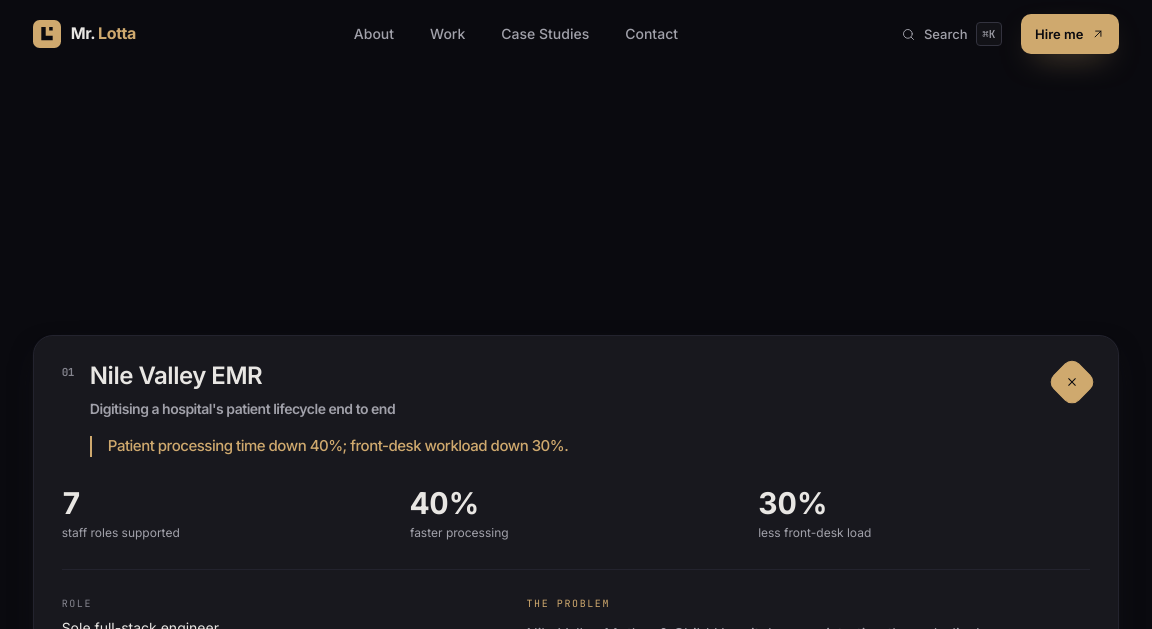
Test: case study accordion › expands and collapses with correct ARIA state
(page scrolled)
Click the button "Nile Valley EMR". click: coordinates (176, 375)
box: [62, 336, 1090, 481]
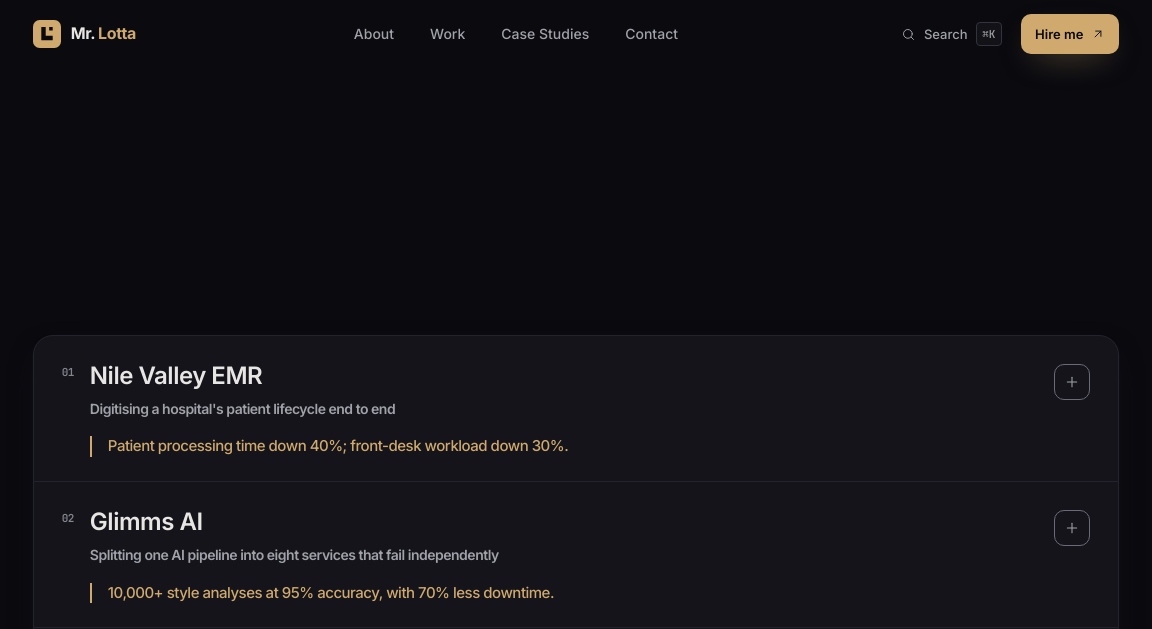
Check: the button "Nile Valley EMR" is collapsed
Click the button "Nile Valley EMR". click: coordinates (176, 375)
box: [62, 336, 1090, 481]
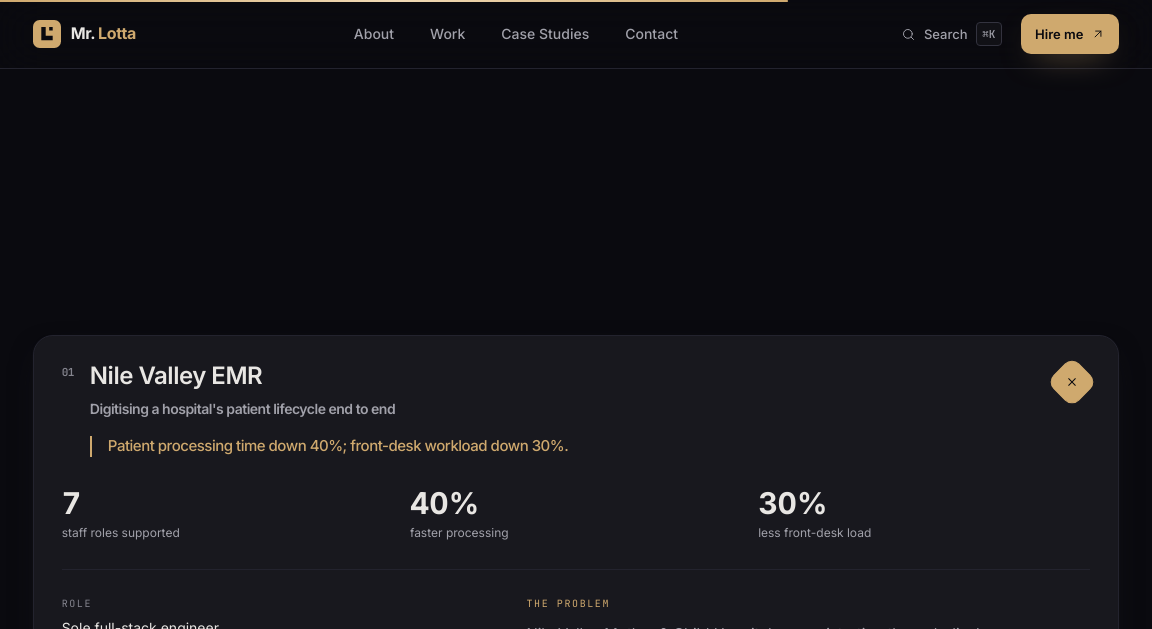
Check: the button "Nile Valley EMR" is expanded, box [62, 336, 1090, 481]
